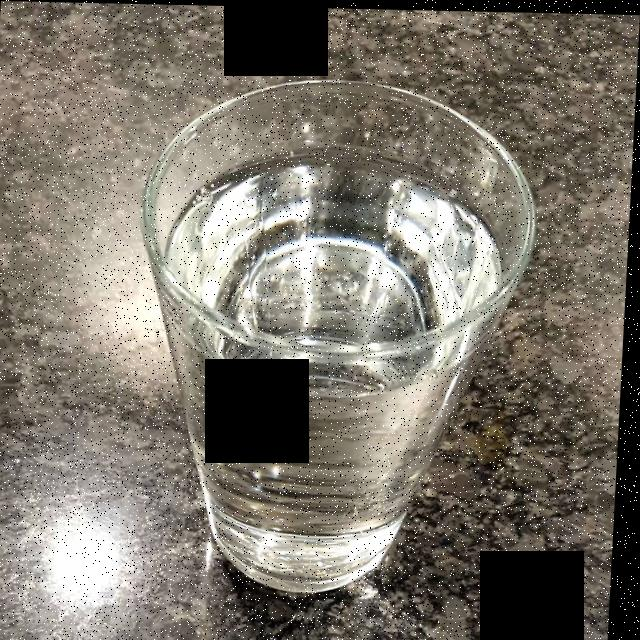water: (168, 162, 501, 570)
